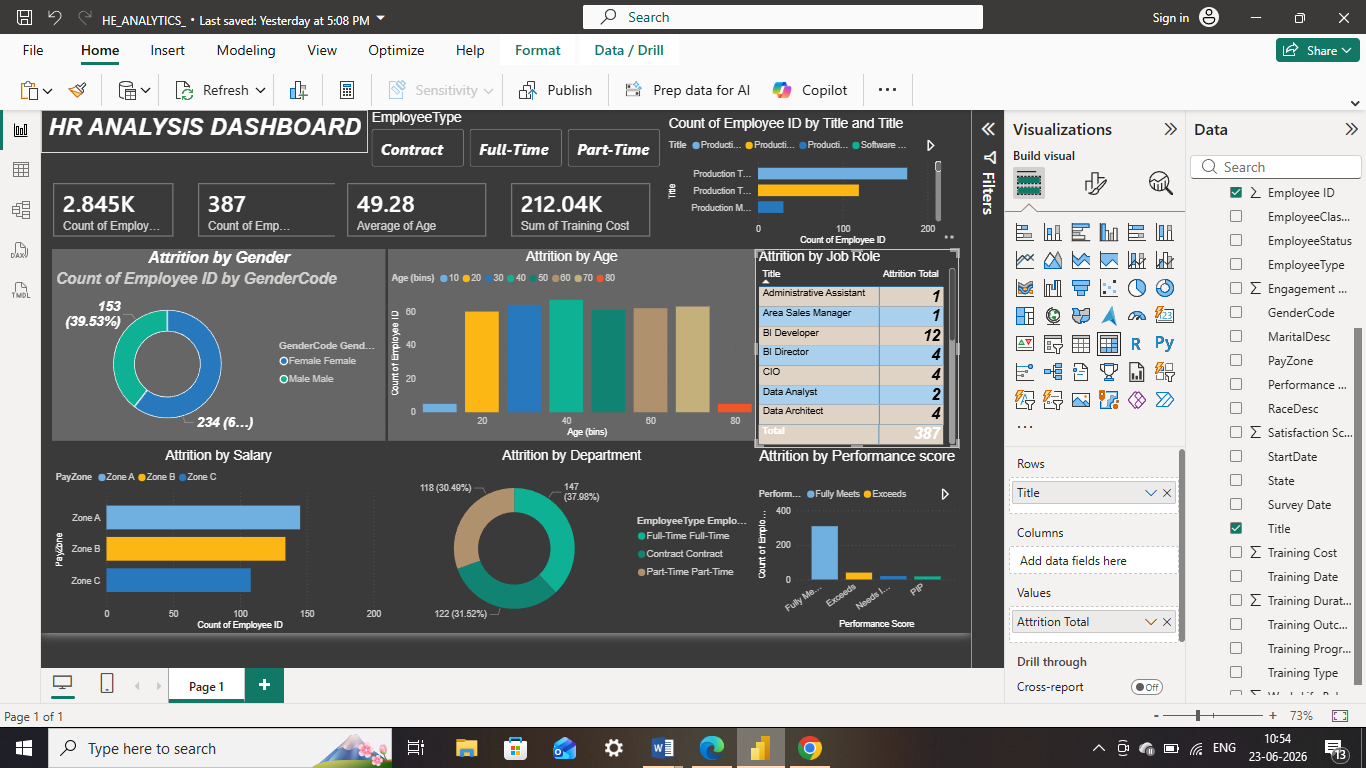

The dashboard page shown, as its layout file describes it:
{"tool":"powerbi","page":{"name":"Page 1","canvas":[1280,720],"ordinal":0},"visuals":[{"type":"textbox","box":[0,0,477.1,58.8],"z":0},{"type":"advancedSlicerVisual","fields":{"Values":["hr_analytics_db cleaned_hr_data_analysis.EmployeeType"]},"box":[473.7,0,404.8,84],"z":2000},{"type":"cardVisual","fields":{"Data":["CountNonNull(hr_analytics_db cleaned_hr_data_analysis.Employee ID)"]},"box":[238.5,84,226.8,107.5],"z":3000},{"type":"cardVisual","fields":{"Data":["Avg(hr_analytics_db cleaned_hr_data_analysis.Age)"]},"box":[438.4,84,226.8,107.5],"z":4000},{"type":"donutChart","title":"Attrition by Gender ","fields":{"Category":["hr_analytics_db cleaned_hr_data_analysis.GenderCode"],"Y":["CountNonNull(hr_analytics_db cleaned_hr_data_analysis.Employee ID)"]},"box":[15.1,191.5,458.6,263.7],"z":5000},{"type":"columnChart","title":"Attrition by Age ","fields":{"Category":["hr_analytics_db cleaned_hr_data_analysis.Age (bins)"],"Y":["CountNonNull(hr_analytics_db cleaned_hr_data_analysis.Employee ID)"],"Series":["hr_analytics_db cleaned_hr_data_analysis.Age (bins)"]},"box":[477.1,191.5,505.6,263.7],"z":6000},{"type":"pivotTable","title":"Attrition by Job Role","fields":{"Rows":["hr_analytics_db cleaned_hr_data_analysis.Title"],"Values":["CountNonNull(hr_analytics_db cleaned_hr_data_analysis.Employee ID)"]},"box":[982.7,191.5,280.5,273.8],"z":7000},{"type":"clusteredBarChart","title":"Attrition by Salary ","fields":{"Category":["hr_analytics_db cleaned_hr_data_analysis.PayZone"],"Y":["CountNonNull(hr_analytics_db cleaned_hr_data_analysis.Employee ID)"]},"box":[15.1,465.3,458.6,255.3],"z":8000},{"type":"donutChart","title":"Attrition by Department","fields":{"Category":["hr_analytics_db cleaned_hr_data_analysis.EmployeeType"],"Y":["CountNonNull(hr_analytics_db cleaned_hr_data_analysis.Employee ID)"]},"box":[477.1,465.3,505.6,255.3],"z":9000},{"type":"clusteredColumnChart","title":"Attrition by Performance score ","fields":{"Category":["hr_analytics_db cleaned_hr_data_analysis.Performance Score"],"Y":["CountNonNull(hr_analytics_db cleaned_hr_data_analysis.Employee ID)"]},"box":[983,465,281,255],"z":10000},{"type":"clusteredBarChart","fields":{"Category":["hr_analytics_db cleaned_hr_data_analysis.Title"],"Y":["CountNonNull(hr_analytics_db cleaned_hr_data_analysis.Employee ID)"]},"box":[878.5,8.4,384.7,151.2],"z":11000},{"type":"cardVisual","fields":{"Data":["Sum(hr_analytics_db cleaned_hr_data_analysis.Training Cost)"]},"box":[651.8,84,226.8,107.5],"z":11001},{"type":"cardVisual","fields":{"Data":["CountNonNull(hr_analytics_db cleaned_hr_data_analysis.Employee ID)"]},"box":[45.4,84,199.9,107.5],"z":11002}]}

Visuals, with their boxes on the page's 1280x720 design canvas (x1, y1, x2, y2). These are canvas units, not pixel positions in the 1366x768 screenshot, which may show the page scaled, cropped or inside an application window:
textbox: (0, 0, 477, 59)
advancedSlicerVisual - hr_analytics_db cleaned_hr_data_analysis.EmployeeType: (474, 0, 878, 84)
cardVisual - CountNonNull(hr_analytics_db cleaned_hr_data_analysis.Employee ID): (238, 84, 465, 192)
cardVisual - Avg(hr_analytics_db cleaned_hr_data_analysis.Age): (438, 84, 665, 192)
"Attrition by Gender " donutChart: (15, 192, 474, 455)
"Attrition by Age " columnChart: (477, 192, 983, 455)
"Attrition by Job Role" pivotTable: (983, 192, 1263, 465)
"Attrition by Salary " clusteredBarChart: (15, 465, 474, 721)
"Attrition by Department" donutChart: (477, 465, 983, 721)
"Attrition by Performance score " clusteredColumnChart: (983, 465, 1264, 720)
clusteredBarChart - hr_analytics_db cleaned_hr_data_analysis.Title x CountNonNull(hr_analytics_db cleaned_hr_data_analysis.Employee ID): (878, 8, 1263, 160)
cardVisual - Sum(hr_analytics_db cleaned_hr_data_analysis.Training Cost): (652, 84, 879, 192)
cardVisual - CountNonNull(hr_analytics_db cleaned_hr_data_analysis.Employee ID): (45, 84, 245, 192)
